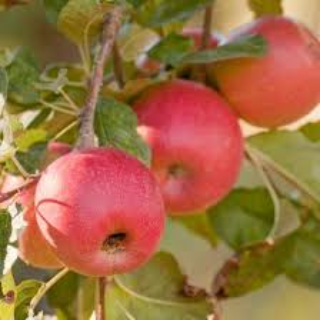tao: (33, 142, 168, 283), (124, 73, 246, 217), (213, 13, 317, 134)
